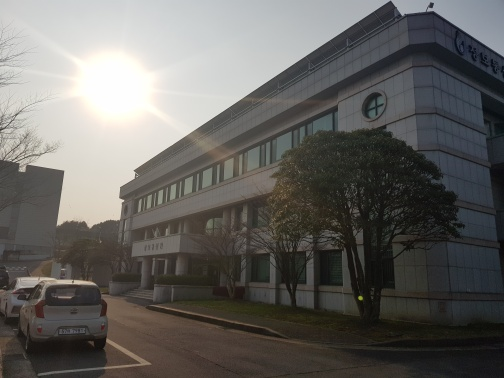Engineering College Building 4: (2, 161, 54, 254), (22, 161, 62, 262)
Information Telecommunication Center: (118, 27, 499, 320), (448, 31, 500, 78), (139, 225, 176, 259)
